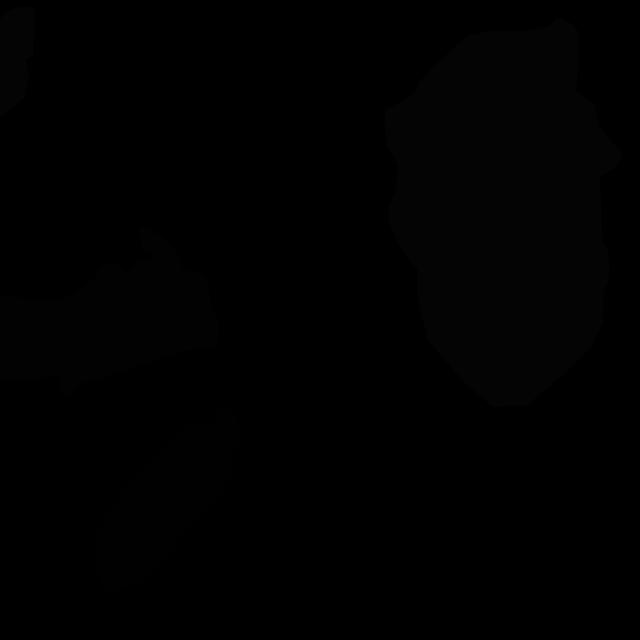cardboard: (0, 227, 219, 395)
rigid_plastic: (95, 408, 241, 594)
soft_plastic: (384, 18, 622, 407), (0, 7, 34, 118)
